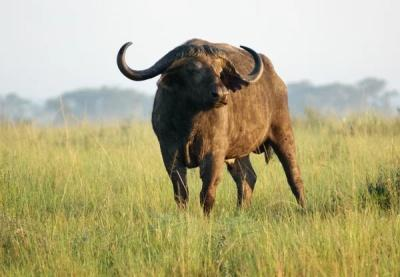buffalo: (117, 38, 304, 213)
